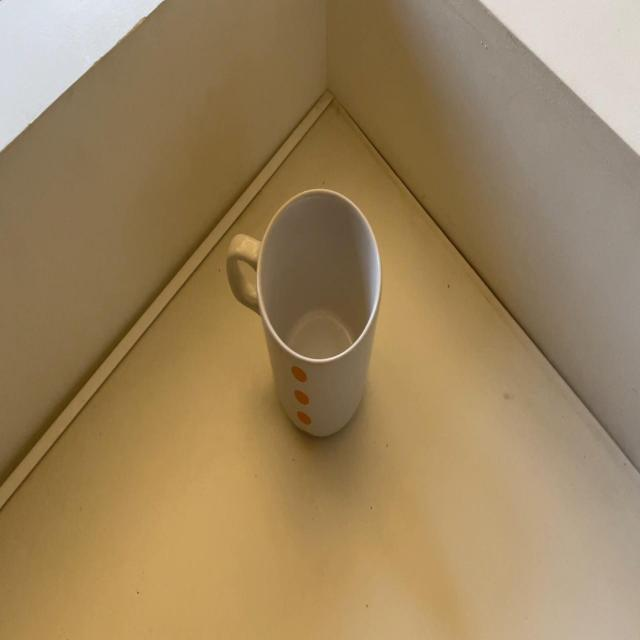cup: (219, 190, 394, 446)
